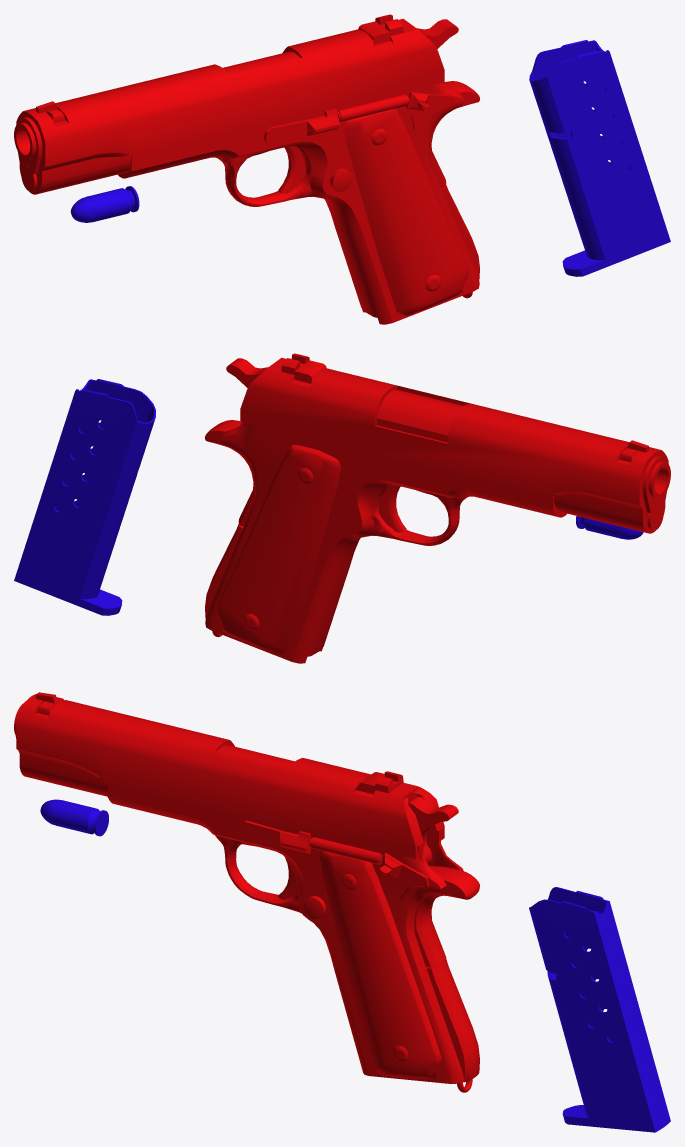
File: m1911+mag+bullets_final_low.fbx
The picture shows the model from 3 angles, top to bottom: view 1: azimuth 30°, elevation 25°; view 2: azimuth 150°, elevation 25°; view 3: azimuth 330°, elevation 25°; orthographic projection.
Visible parts, largest first — view 1: top_low, mag_low.006, main_low, grip_low, detail2_low, shell_low, safety_low, detail1_low, foresight_low, hammerstop_low, trigger_low, back_low (+5 smaller); view 2: top_low, mag_low.006, main_low, grip_low, cover_low, foresight_low, hammerstop_low, trigger_low, back_low, barrel_low, hammer_low, front1_low (+1 smaller); view 3: top_low, mag_low.006, main_low, grip_low, back_low, hammerstop_low, shell_low, detail2_low, safety_low, hammer_low, detail1_low, foresight_low (+1 smaller).
Boxes of the visible parts, box(x1,y1,x2,y2) form: top_low: box(16, 18, 444, 194); mag_low.006: box(529, 40, 670, 276); main_low: box(118, 82, 479, 324); grip_low: box(344, 108, 468, 315); detail2_low: box(264, 109, 340, 146); shell_low: box(86, 186, 139, 222); safety_low: box(406, 91, 454, 133); detail1_low: box(337, 94, 409, 121); foresight_low: box(358, 14, 403, 44); hammerstop_low: box(429, 81, 479, 187); trigger_low: box(278, 146, 306, 193); back_low: box(441, 184, 479, 279); top_low: box(240, 357, 668, 533); mag_low.006: box(14, 379, 155, 615); main_low: box(205, 421, 566, 663); grip_low: box(216, 445, 340, 654); cover_low: box(376, 390, 463, 442); foresight_low: box(281, 353, 326, 383); hammerstop_low: box(205, 420, 255, 526); trigger_low: box(378, 485, 406, 532); back_low: box(205, 523, 243, 618); barrel_low: box(648, 461, 670, 498); hammer_low: box(226, 358, 267, 387); front1_low: box(642, 456, 668, 513); top_low: box(16, 694, 444, 858); mag_low.006: box(529, 887, 670, 1132); main_low: box(107, 784, 479, 1083); grip_low: box(320, 851, 441, 1079); back_low: box(426, 958, 479, 1082); hammerstop_low: box(414, 866, 479, 967); shell_low: box(53, 800, 108, 836); detail2_low: box(238, 820, 310, 853); safety_low: box(379, 853, 429, 900); hammer_low: box(408, 796, 458, 864); detail1_low: box(309, 837, 382, 864); foresight_low: box(357, 771, 403, 794).
Bounding box in the file's own units: 31.6 × 14.08 × 3.42.
